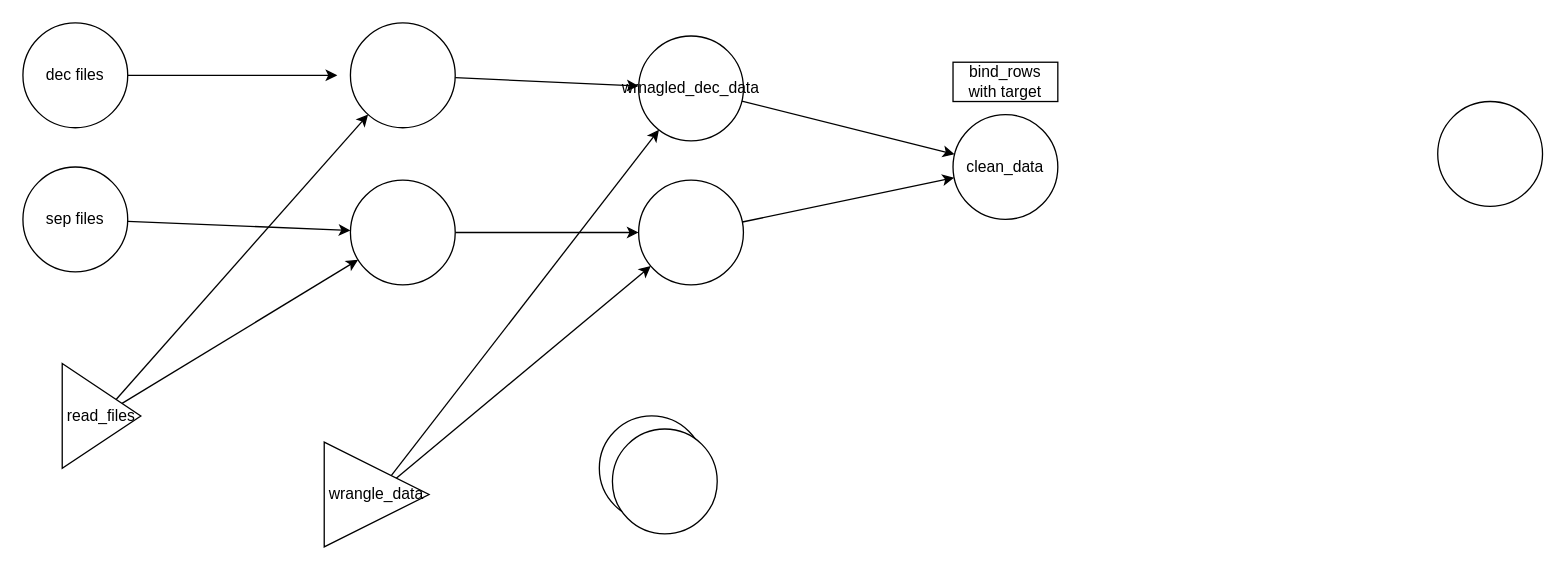
This 1565x570 diagram has some shape labels left out. The box of each missing label's shape, as (x1, y1, x2, y2) in pixels:
raw_dec_data: (349, 22, 455, 128)
raw_sep_data: (349, 179, 455, 285)
wrangled_sep_data: (637, 179, 743, 285)
